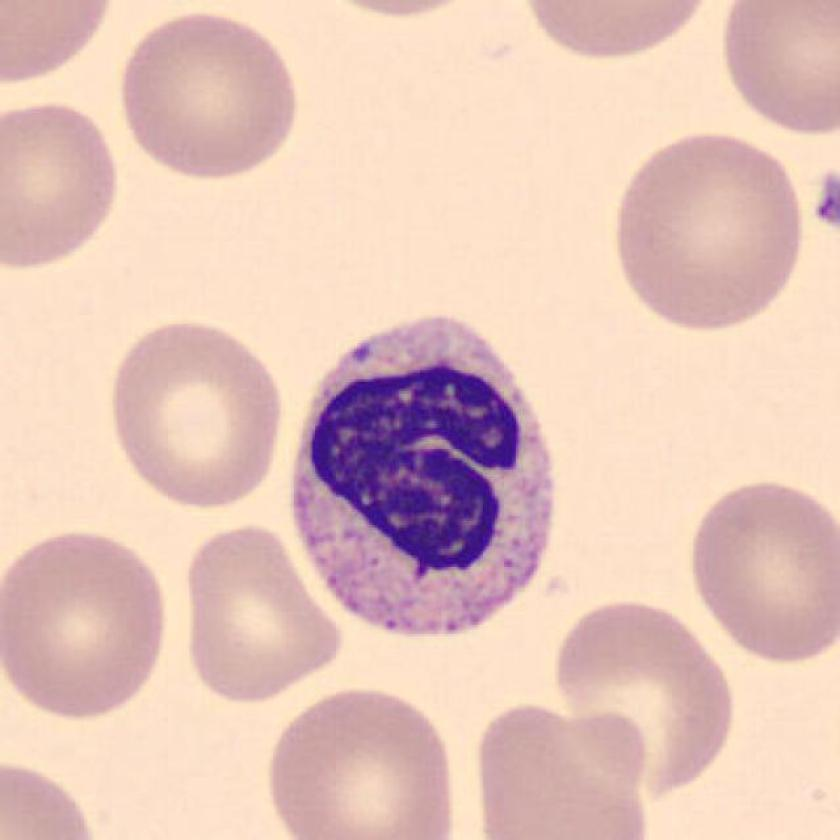neutrophil: (292, 315, 555, 632)
